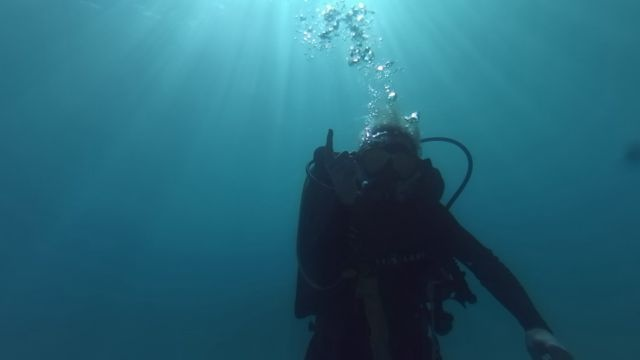Diver: (291, 111, 570, 356)
Hand: (520, 323, 573, 352)
